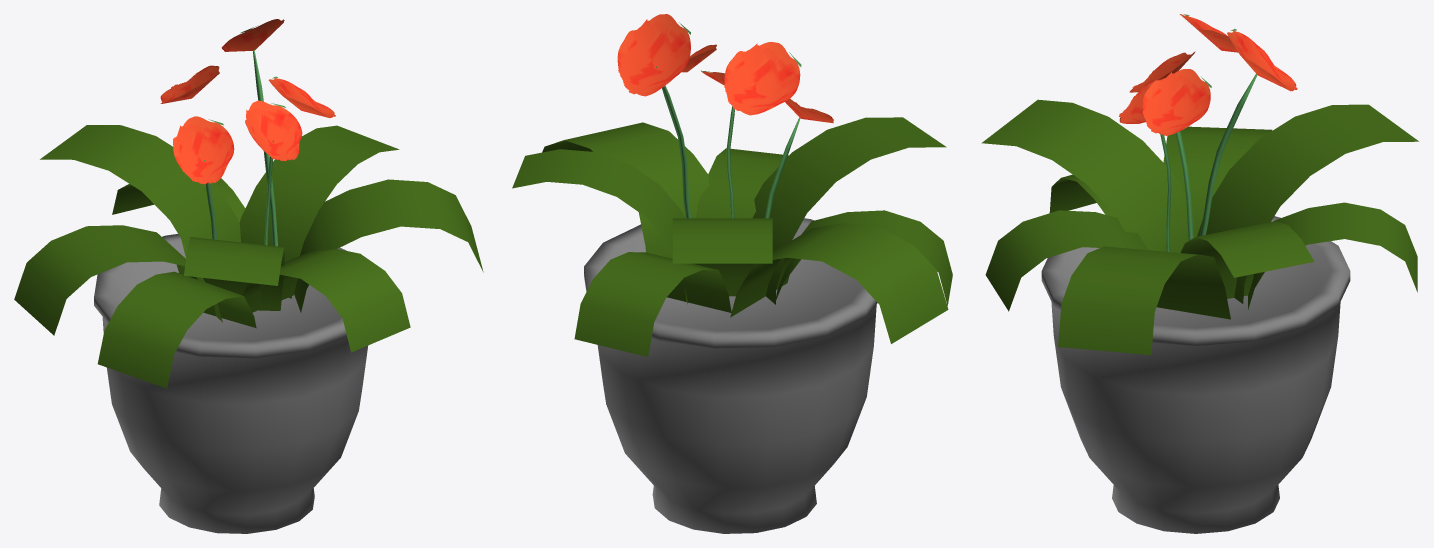
Rendered from SM_flowerpot_04.fbx.
3 renders of one model, left to right at view 1: azimuth 30°, elevation 25°; view 2: azimuth 150°, elevation 25°; view 3: azimuth 270°, elevation 25°, orthographic. The views are drawn at different scales.
Parts seen in each view (by area): view 1: Cylinder071; view 2: Cylinder071; view 3: Cylinder071.
Boxes of the visible parts, x1,y1,x2,y2 form: Cylinder071: [14, 19, 483, 533]; Cylinder071: [512, 14, 952, 533]; Cylinder071: [981, 14, 1418, 533].
Bounding box in the file's own units: 27.61 × 29.78 × 24.1.
